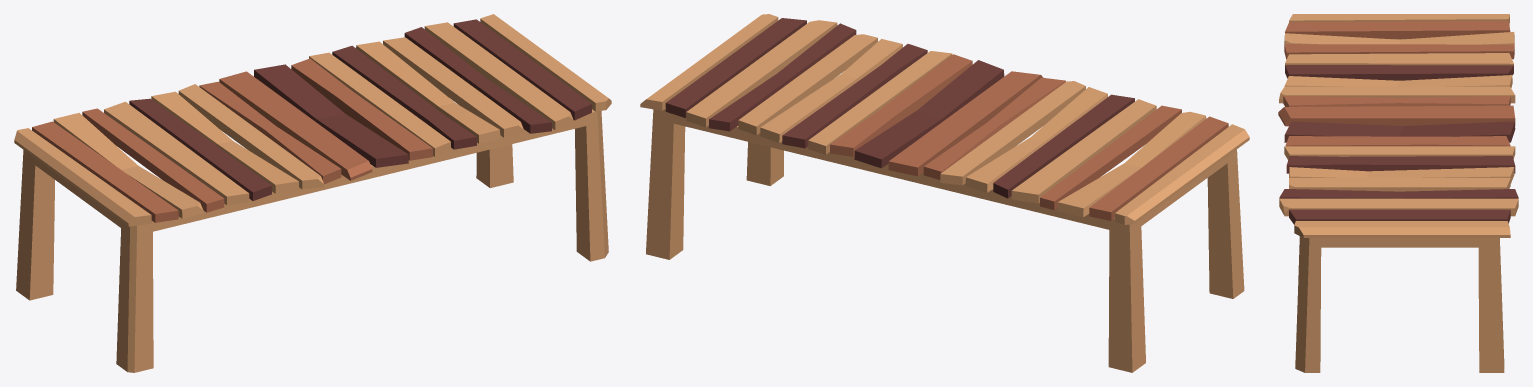
Rendered from Sellers Table 03.fbx.
3 views of the same model, side by side, from view 1: azimuth 30°, elevation 25°; view 2: azimuth 150°, elevation 25°; view 3: azimuth 270°, elevation 25° (orthographic). The views are drawn at different scales.
Visible parts, largest first — view 1: Sellers Table 03; view 2: Sellers Table 03; view 3: Sellers Table 03.
Boxes of the visible parts, bbox=[...] form: Sellers Table 03: bbox=[14, 14, 611, 372]; Sellers Table 03: bbox=[640, 14, 1249, 372]; Sellers Table 03: bbox=[1278, 14, 1518, 372].
Size of the model in its own units: 349 by 107 by 162.
